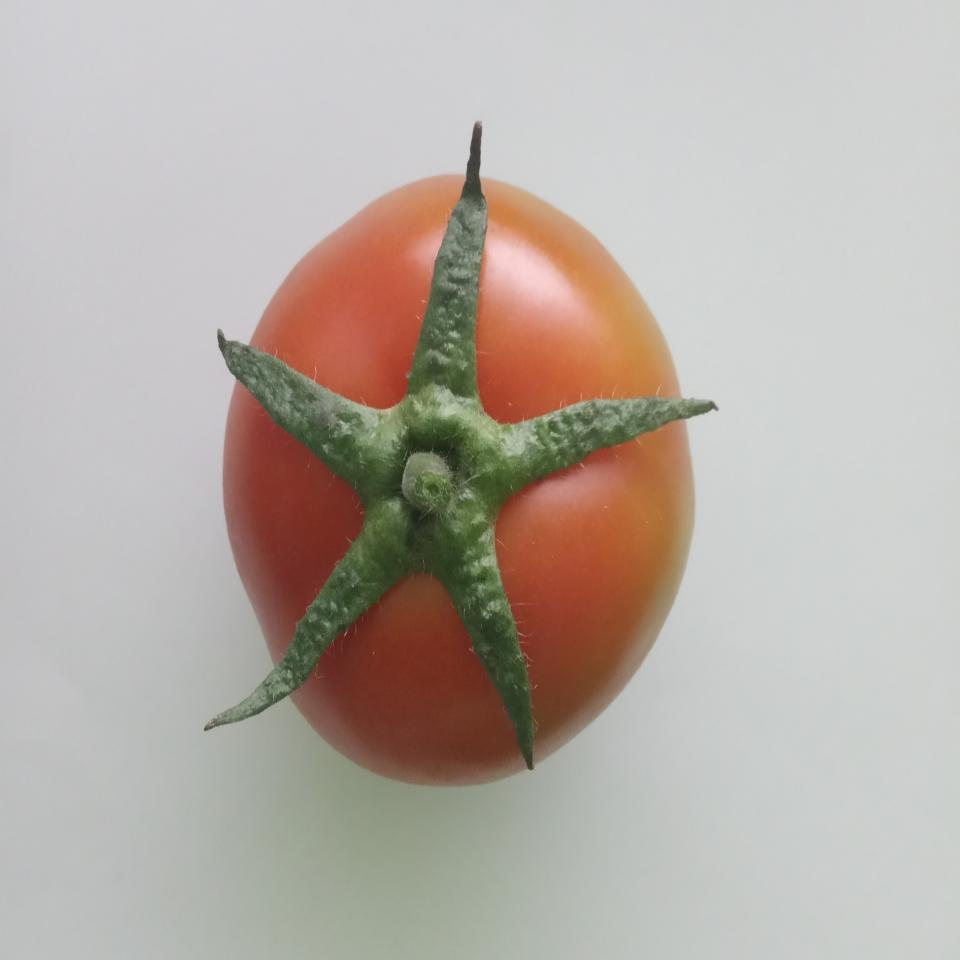Healthy: (200, 115, 714, 797)
